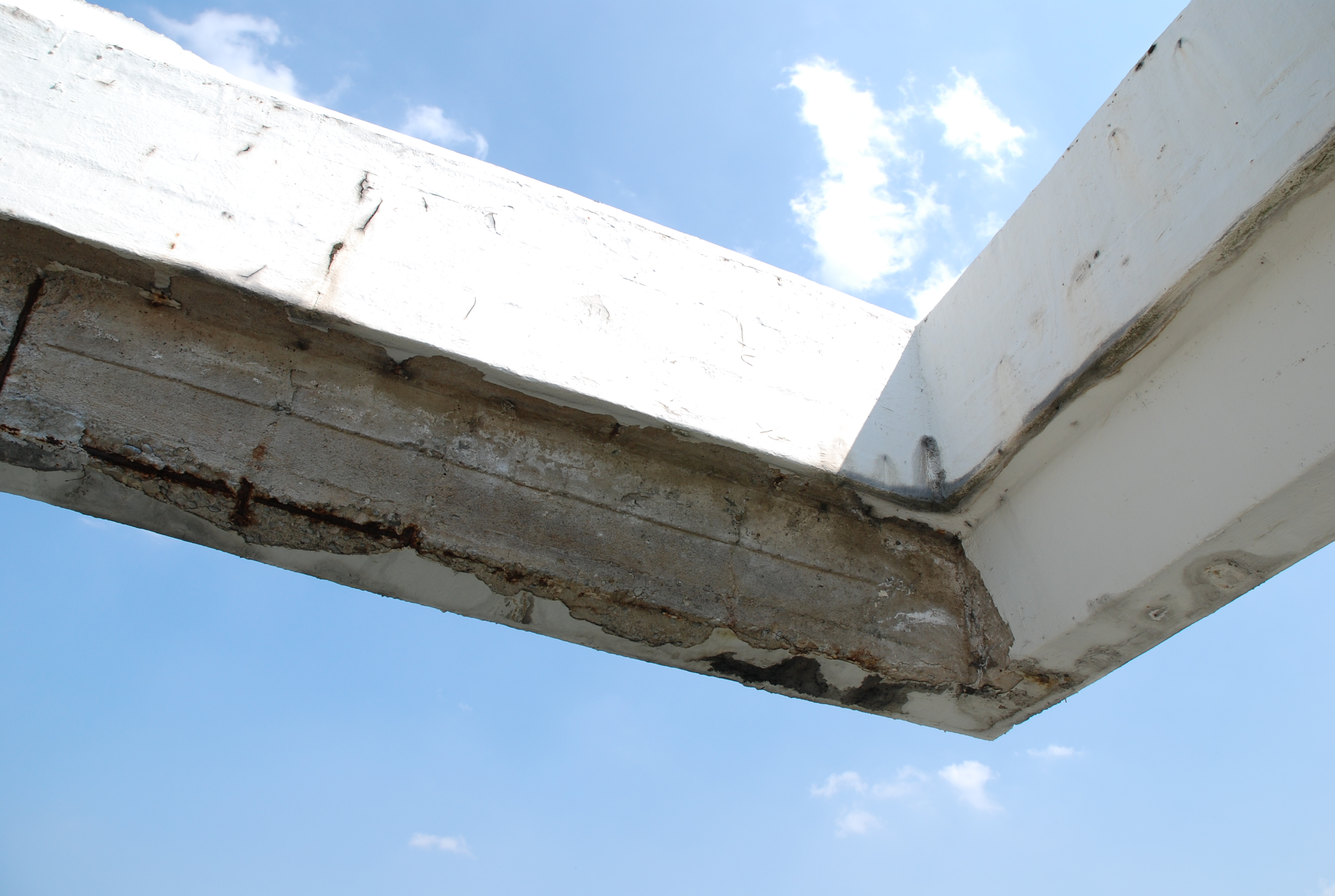Corrosion/Exposed rebar: (0, 248, 954, 695)
Spalling: (3, 207, 1270, 745)
